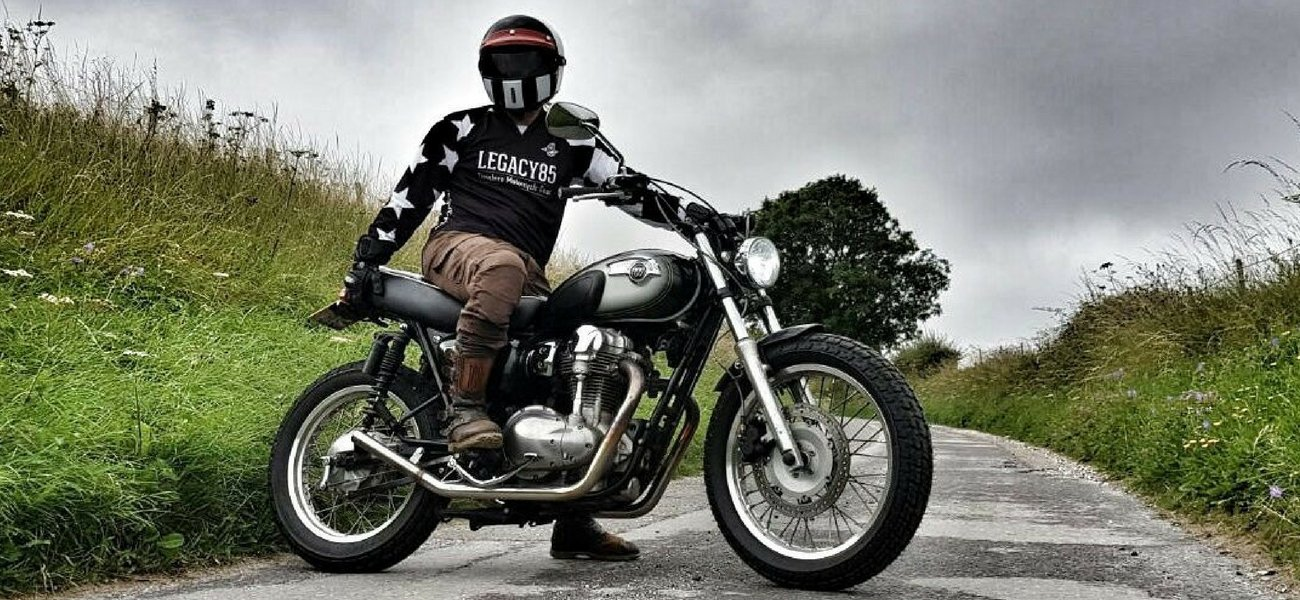with_helmet: (474, 14, 569, 107)
